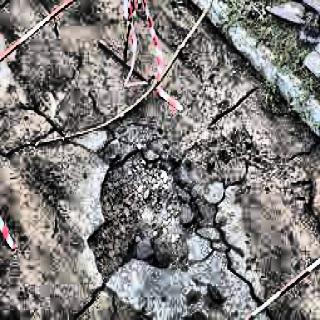alligator-crack: (2, 2, 181, 161), (194, 166, 278, 320)
pothole: (82, 153, 205, 276)
